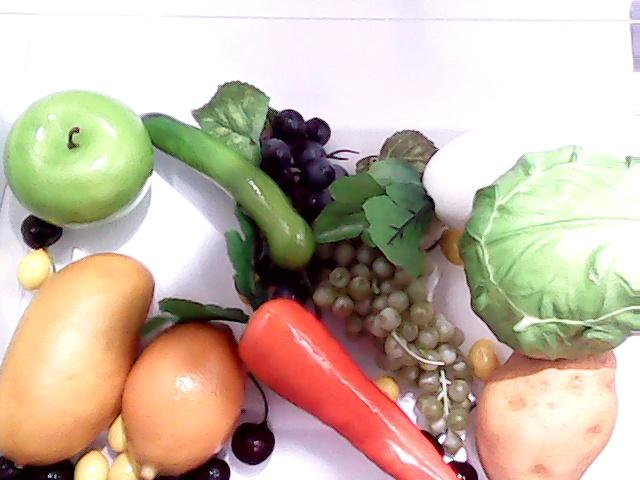apple: (5, 82, 153, 230)
cabbage: (471, 137, 639, 364)
carrot: (155, 199, 460, 480)
grape: (312, 239, 471, 457), (238, 100, 342, 300)
lemon: (117, 316, 250, 469)
mango: (0, 251, 140, 461)
pepper: (134, 113, 322, 272)
potato: (474, 336, 618, 480)
radish: (317, 106, 639, 278)
